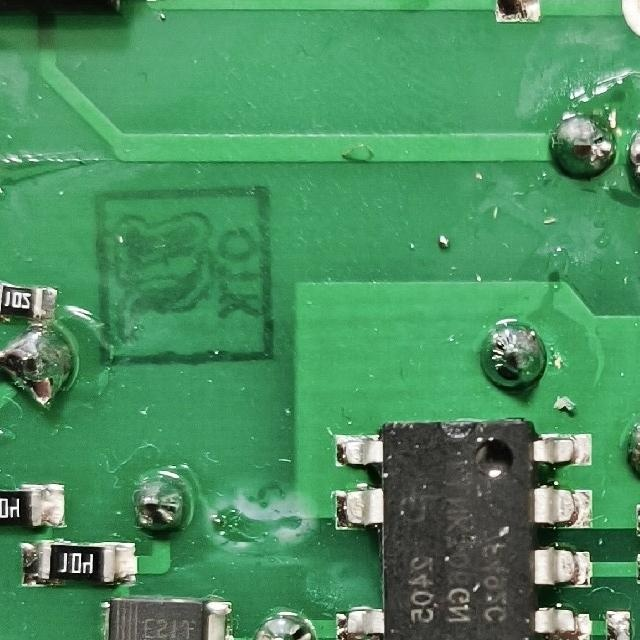chip-resistor: (17, 537, 140, 588), (0, 481, 68, 530), (0, 282, 57, 324)
diode: (97, 592, 236, 640)
ic: (328, 415, 596, 640)
